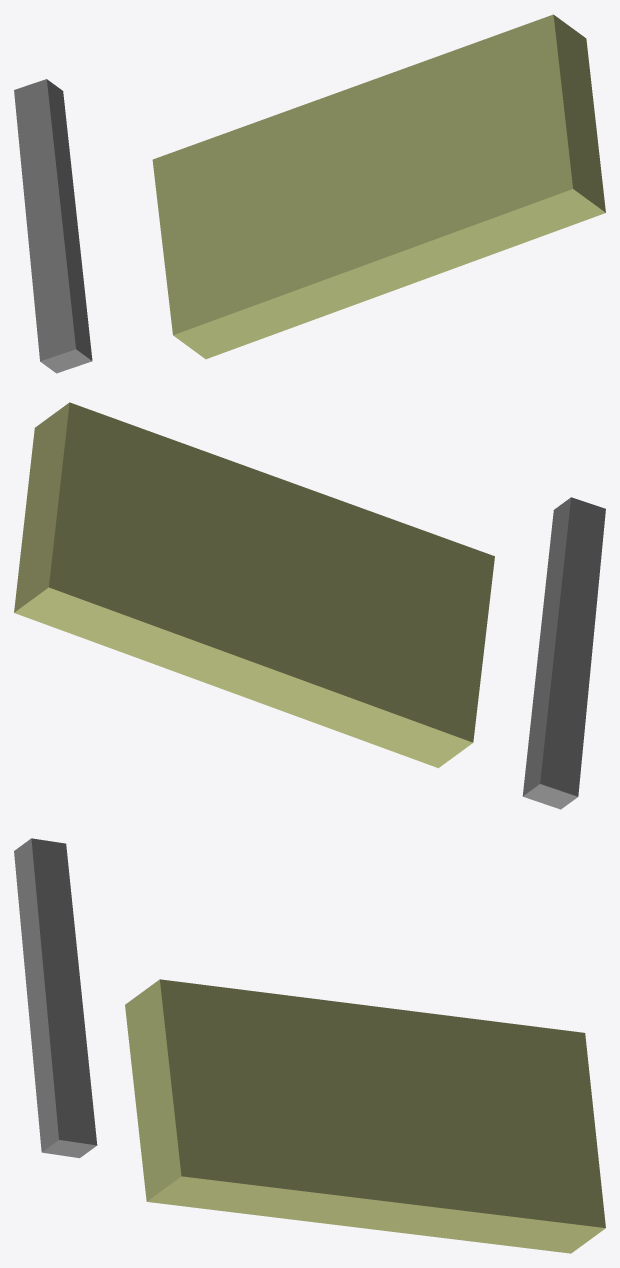
3 views of the same model, one above another, from view 1: azimuth 30°, elevation 25°; view 2: azimuth 150°, elevation 25°; view 3: azimuth 330°, elevation 25° (orthographic). The views are drawn at different scales.
Parts seen in each view (by area): view 1: 0_0_3_2_1_0_0_2_1; view 2: 0_0_3_2_1_0_0_2_1; view 3: 0_0_3_2_1_0_0_2_1.
Boxes of the visible parts, box(x1,y1,x2,y2) form: 0_0_3_2_1_0_0_2_1: box(14, 14, 605, 373); 0_0_3_2_1_0_0_2_1: box(14, 402, 605, 809); 0_0_3_2_1_0_0_2_1: box(14, 838, 605, 1253).
Size of the model in its own units: 58.05 by 28.31 by 7.6.
